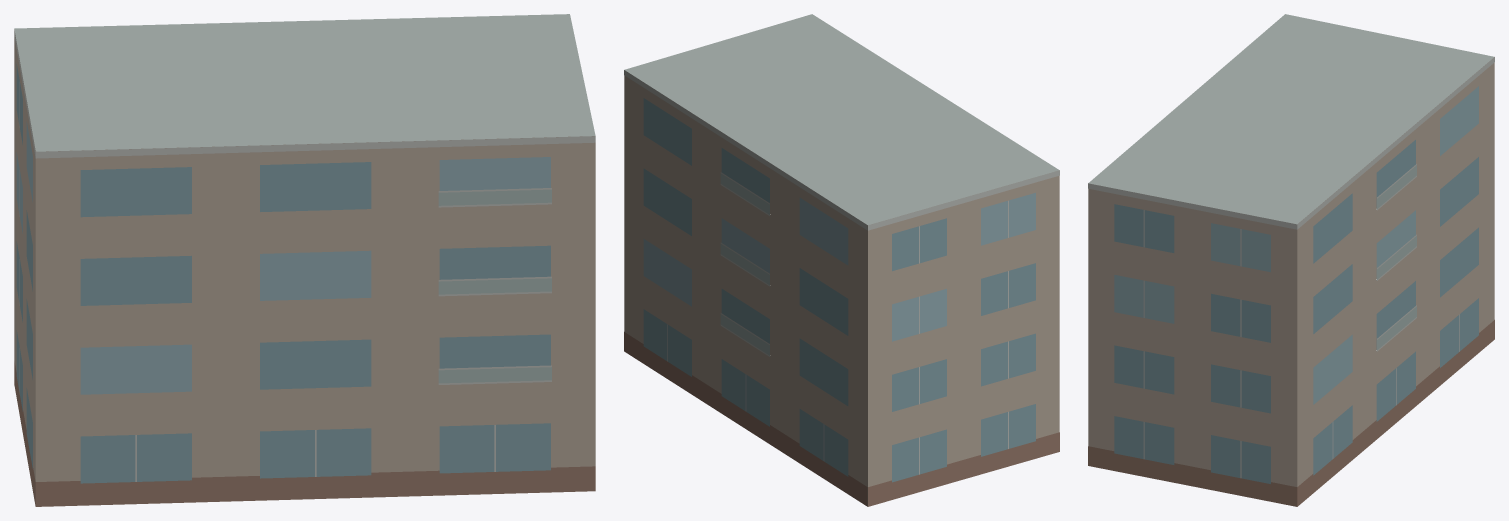
File: survey-upis-32960446.glb
3 views of the same model, side by side, from view 1: azimuth 30°, elevation 25°; view 2: azimuth 150°, elevation 25°; view 3: azimuth 270°, elevation 25° (orthographic). The views are drawn at different scales.
Parts seen in each view (by area): view 1: survey-upis-32960446.tmp; view 2: survey-upis-32960446.tmp; view 3: survey-upis-32960446.tmp.
Boxes of the visible parts, x1,y1,x2,y2 form: survey-upis-32960446.tmp: (14,14,595,506); survey-upis-32960446.tmp: (624,14,1059,506); survey-upis-32960446.tmp: (1088,14,1494,506).
Bounding box in the file's own units: 20.45 × 12.8 × 16.71.
